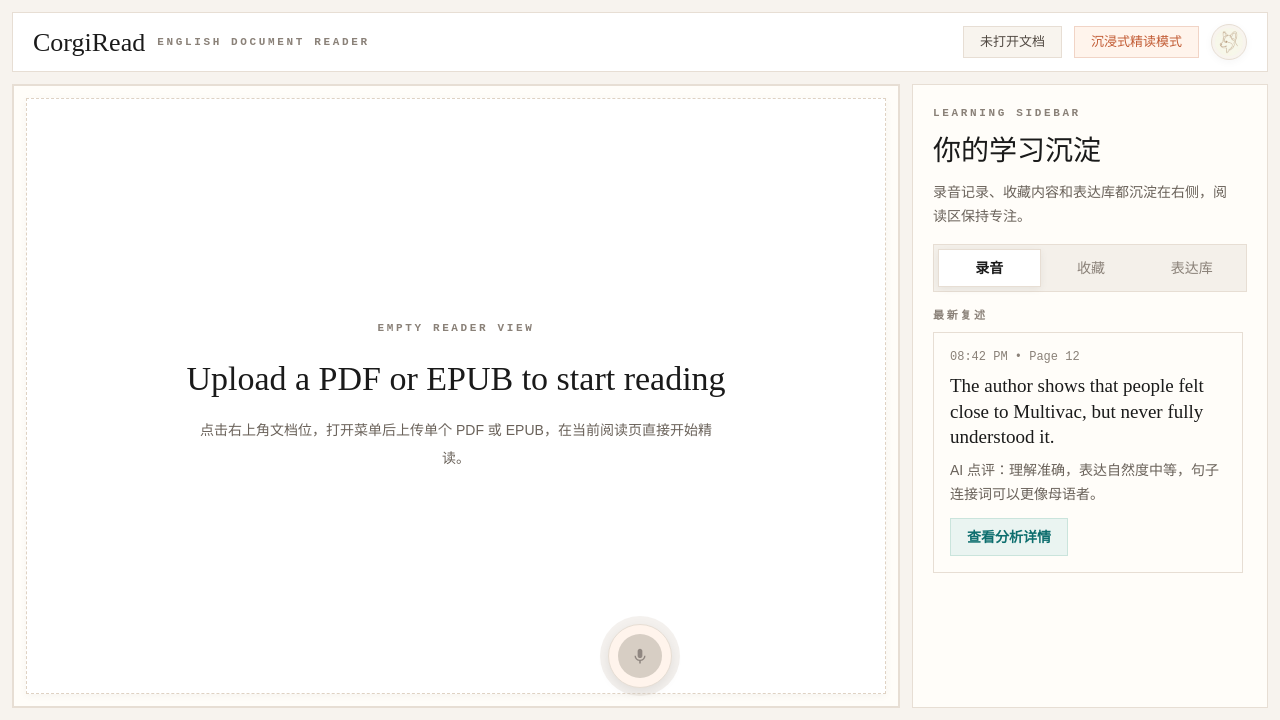
it: guest avatar opens the auth modal
The width and height of the screenshot is (1280, 720).
Click the button with test id "topbar-avatar-button": (1229, 42) [1211,24,1247,60]
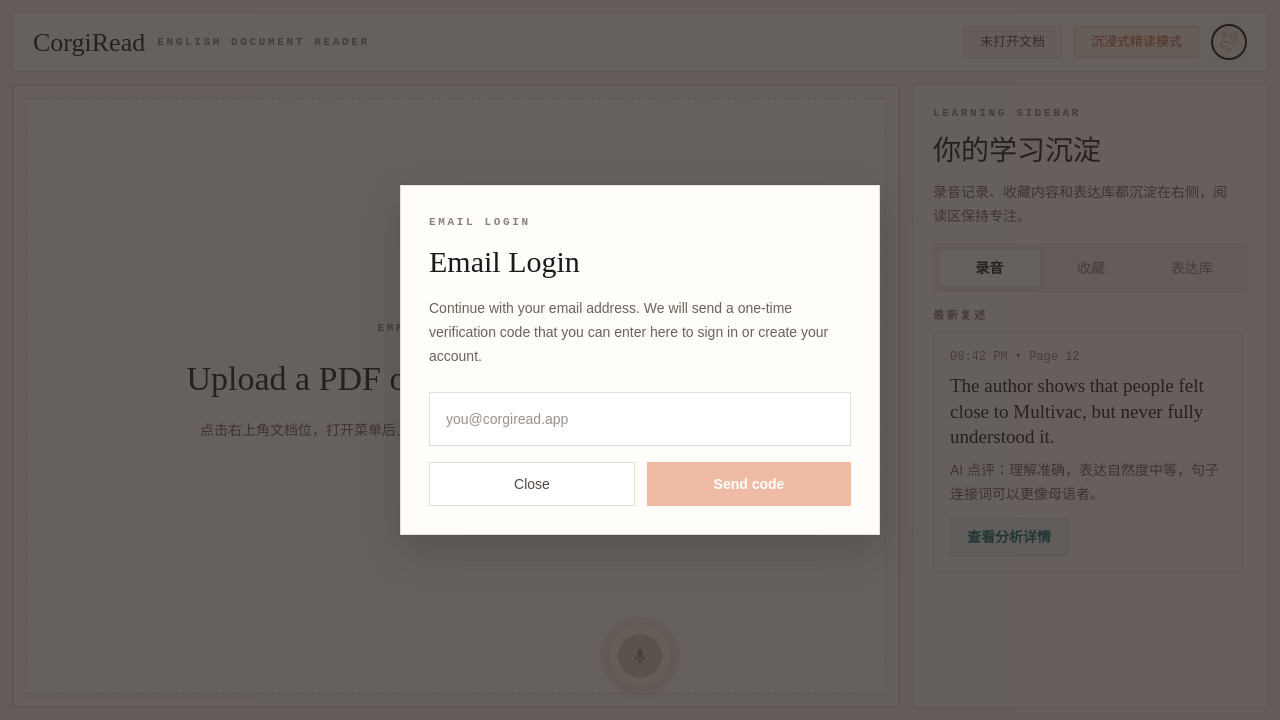
Check: the heading "Email Login" is shown, box [429,245,580,278]
